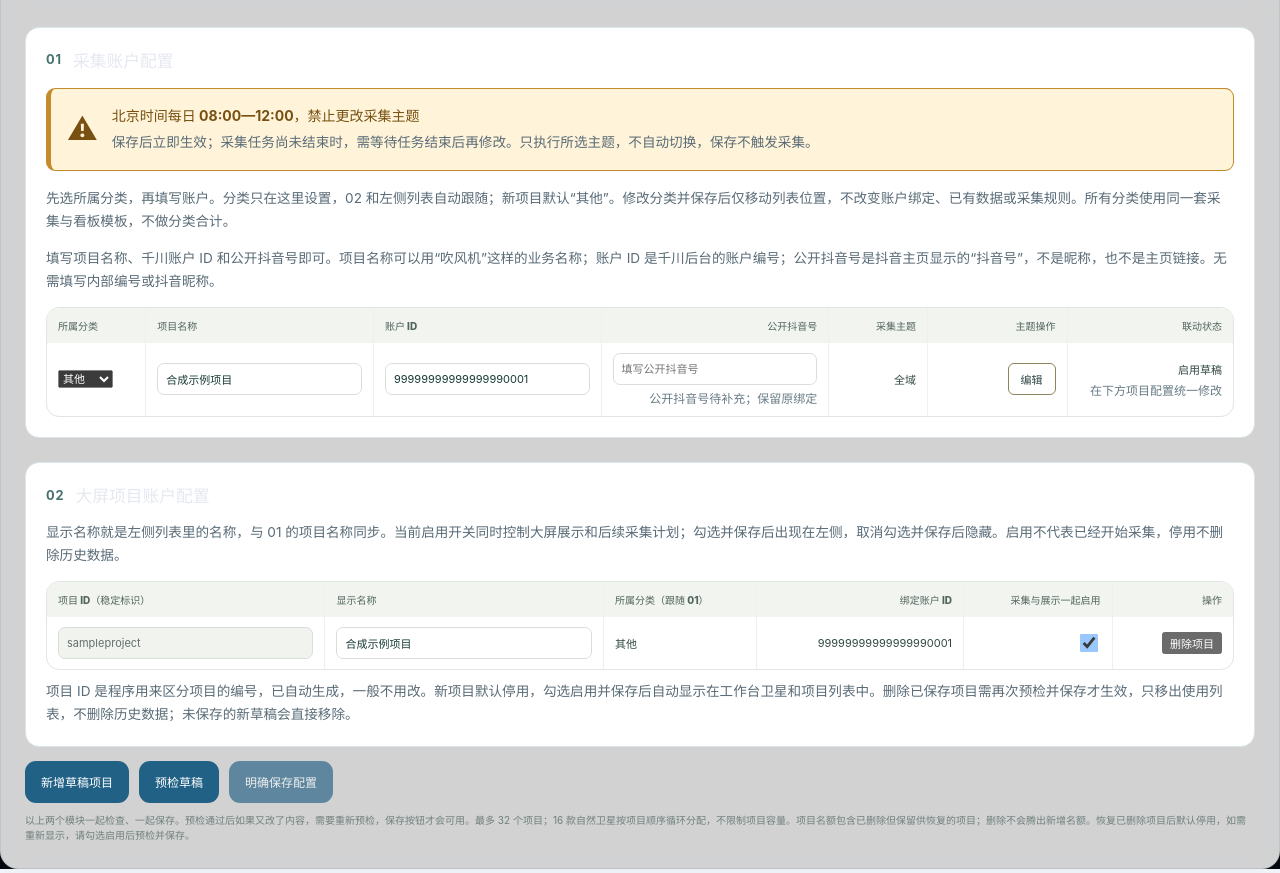
it: Theme controls in existing project configuration › defaults a new project to QUANYU
This screenshot has width=1280, height=873.
(page scrolled)
Click the button "新增草稿项目" at point(77, 782), box [25,761,129,803]
(page scrolled)
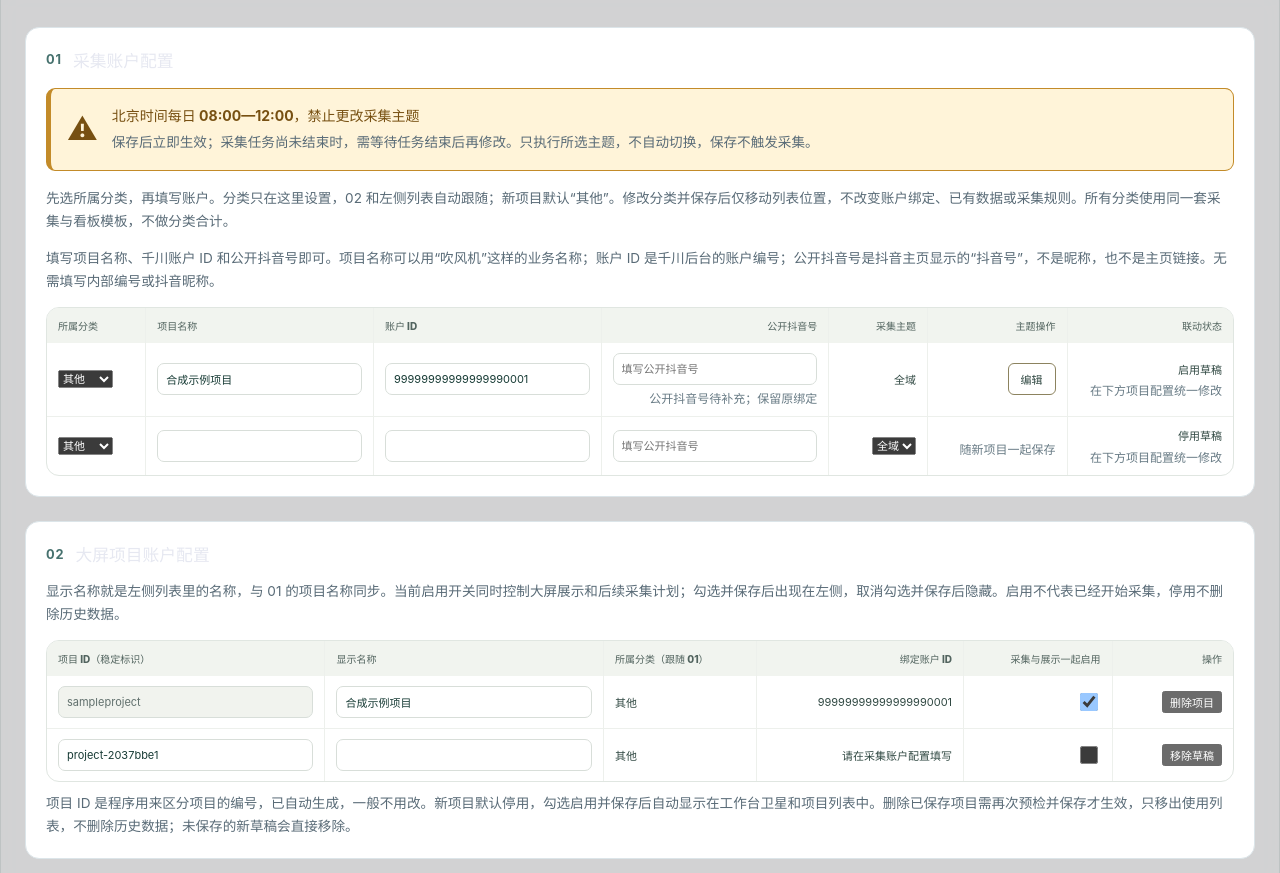
Check: the dropdown named "项目 2 采集主题" shows "全域", box [872,437,916,455]
